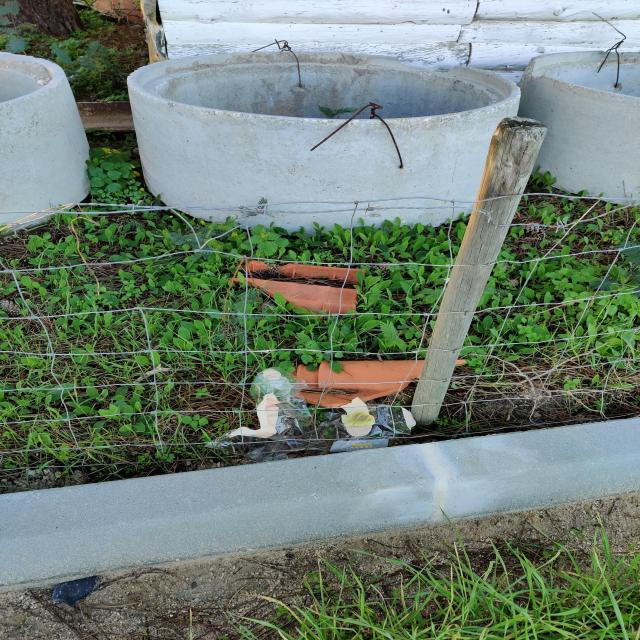litter: (203, 366, 416, 462)
